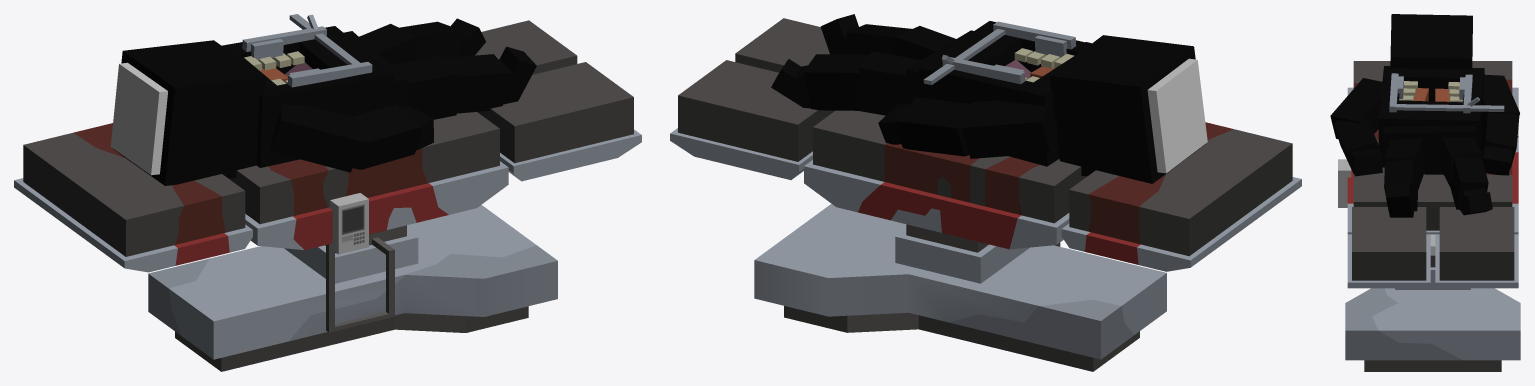
Rendered from AI_Prop_Surgery_Table_Body.fbx.
The picture shows the model from 3 angles, left to right: view 1: azimuth 30°, elevation 25°; view 2: azimuth 150°, elevation 25°; view 3: azimuth 270°, elevation 25°; orthographic projection. The views are drawn at different scales.
Parts seen in each view (by area): view 1: AI_Prop_Surgery_Table_Body; view 2: AI_Prop_Surgery_Table_Body; view 3: AI_Prop_Surgery_Table_Body.
Part boxes in pixels (box(x1,y1,x2,y2)): AI_Prop_Surgery_Table_Body: box(14, 14, 641, 371); AI_Prop_Surgery_Table_Body: box(670, 14, 1301, 371); AI_Prop_Surgery_Table_Body: box(1330, 14, 1520, 371).
Size of the model in its own units: 4.02 by 2.22 by 1.66.
